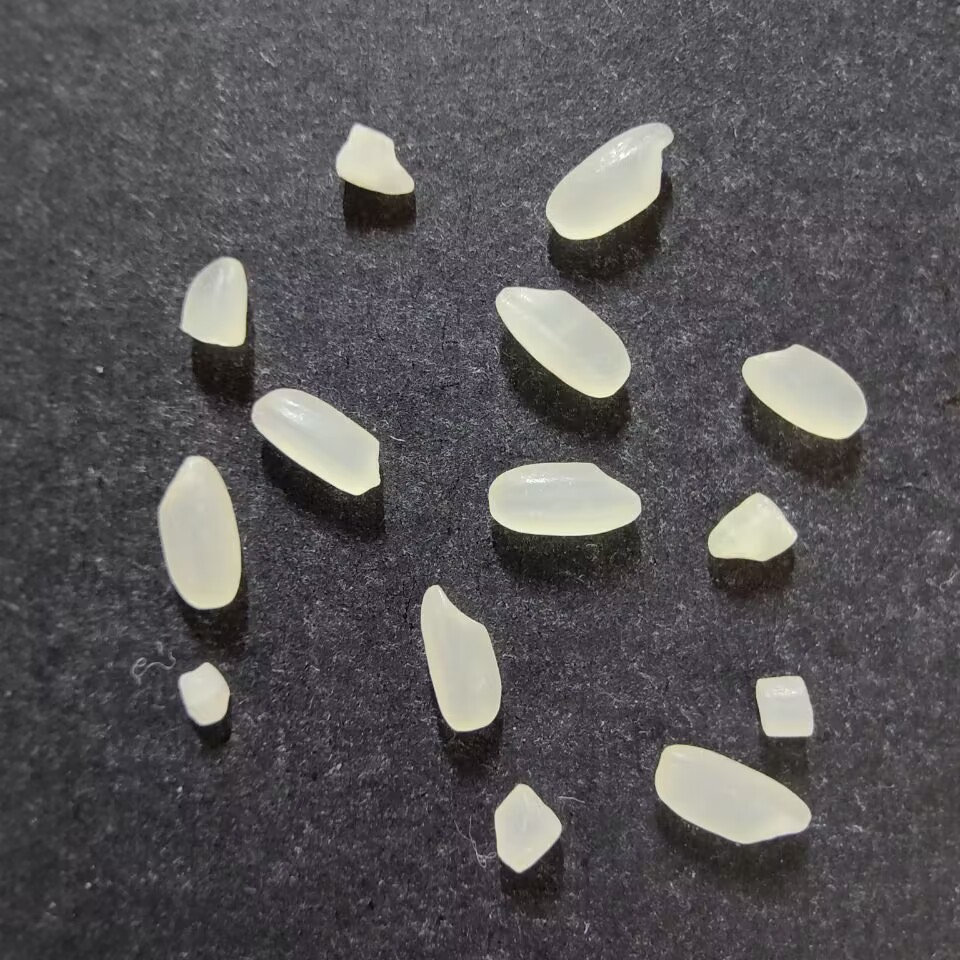broken: (707, 491, 797, 562), (492, 783, 562, 873), (180, 257, 248, 348), (334, 122, 415, 198), (754, 675, 815, 739), (177, 661, 230, 726)
rice: (653, 744, 811, 845), (544, 120, 673, 241), (494, 285, 631, 398), (250, 387, 380, 497), (156, 453, 241, 610), (741, 343, 867, 440), (419, 584, 501, 732), (487, 461, 642, 537)
